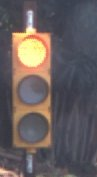Red: (8, 20, 63, 154)
